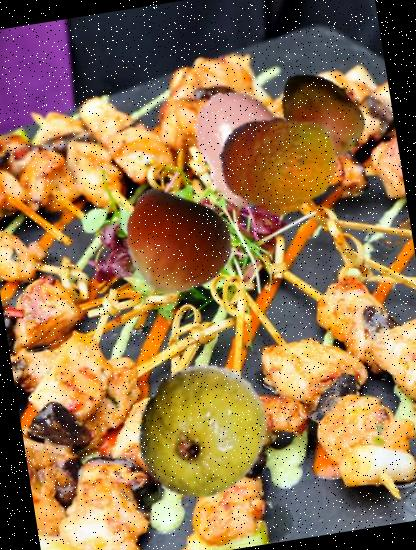Guava: (122, 351, 282, 511)
Kaki: (178, 78, 314, 213)
Mandarine: (210, 98, 348, 235)
Nut: (114, 184, 239, 310)
Papaya: (265, 57, 378, 170)
